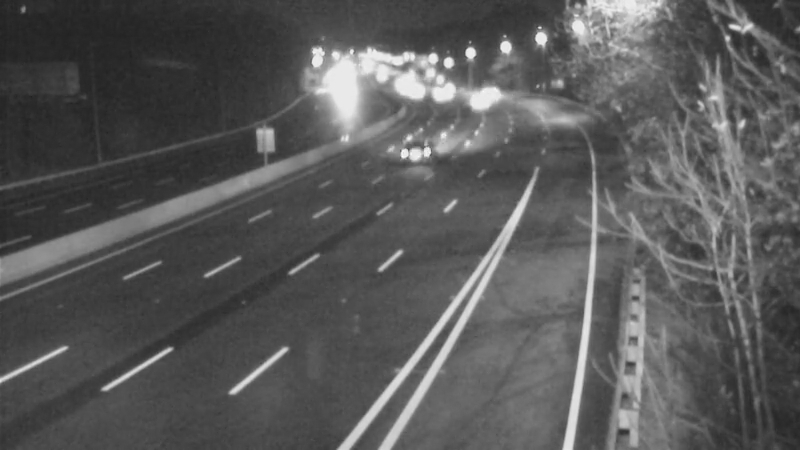vehicle: (414, 65, 464, 115), (449, 77, 499, 127), (393, 121, 443, 171)
